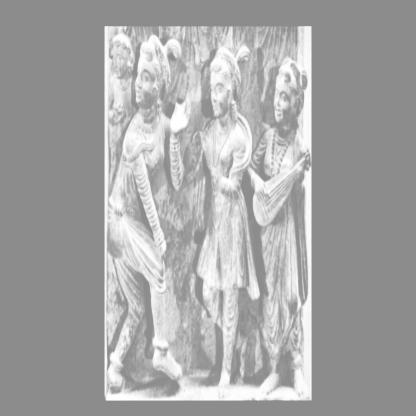buddha-standing: (197, 46, 259, 396)
